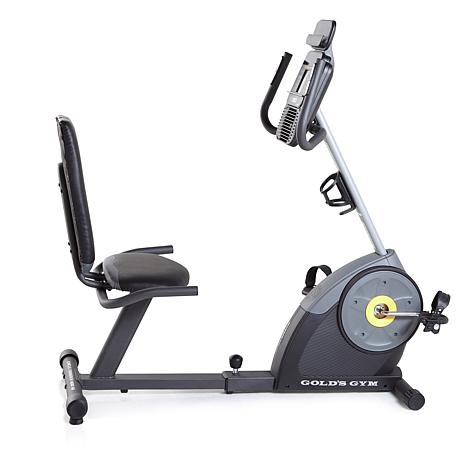gym_bike: (33, 19, 453, 415)
